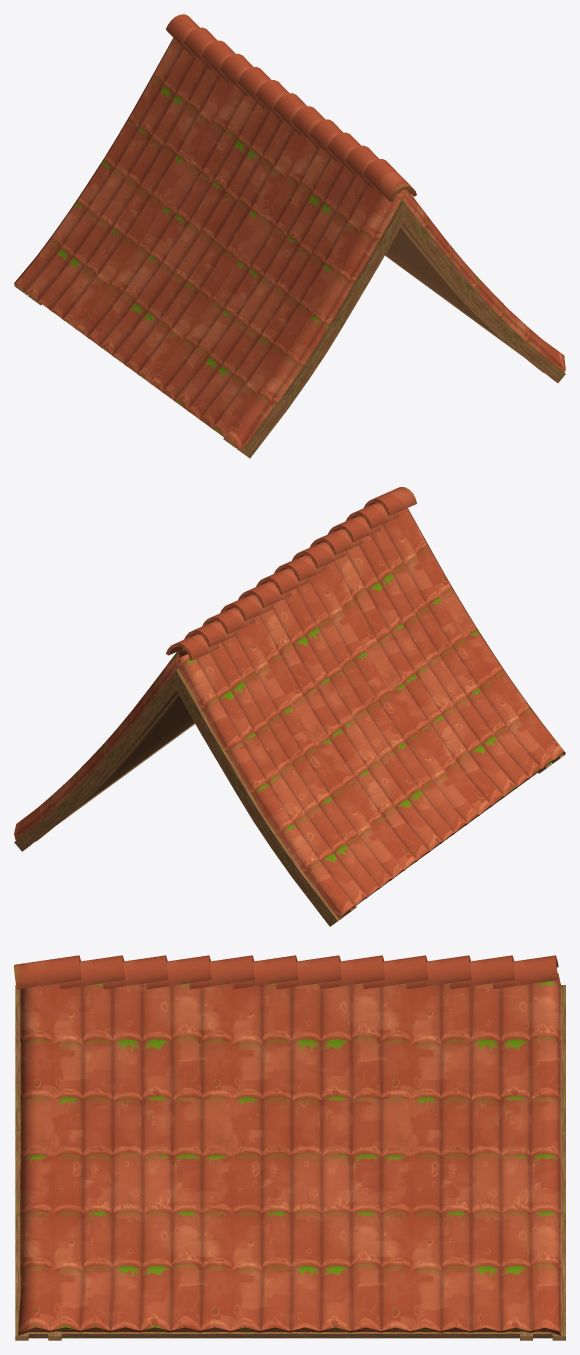
File: roof_tiles_6x8.glb
3 renders of one model, top to bottom at view 1: azimuth 30°, elevation 25°; view 2: azimuth 150°, elevation 25°; view 3: azimuth 270°, elevation 25°, orthographic. The views are drawn at different scales.
Visible parts, largest first — view 1: Roof_RoundTiles_6x8; view 2: Roof_RoundTiles_6x8; view 3: Roof_RoundTiles_6x8.
Boxes of the visible parts, box(x1,y1,x2,y2) form: Roof_RoundTiles_6x8: box(14, 14, 565, 458); Roof_RoundTiles_6x8: box(14, 487, 565, 926); Roof_RoundTiles_6x8: box(14, 955, 565, 1340).
Bounding box in the file's own units: 8.25 × 5.67 × 9.68.
Materials: 2 (2 with a texture image).
